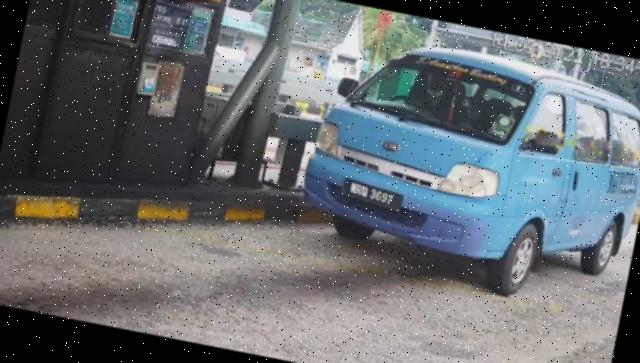License_Plate: (340, 176, 406, 213)
van: (291, 24, 640, 317)
